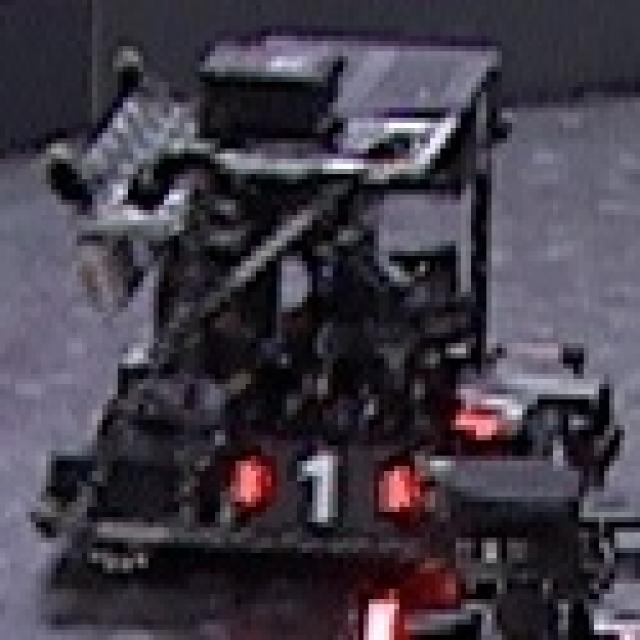R1: (225, 440, 410, 528)
